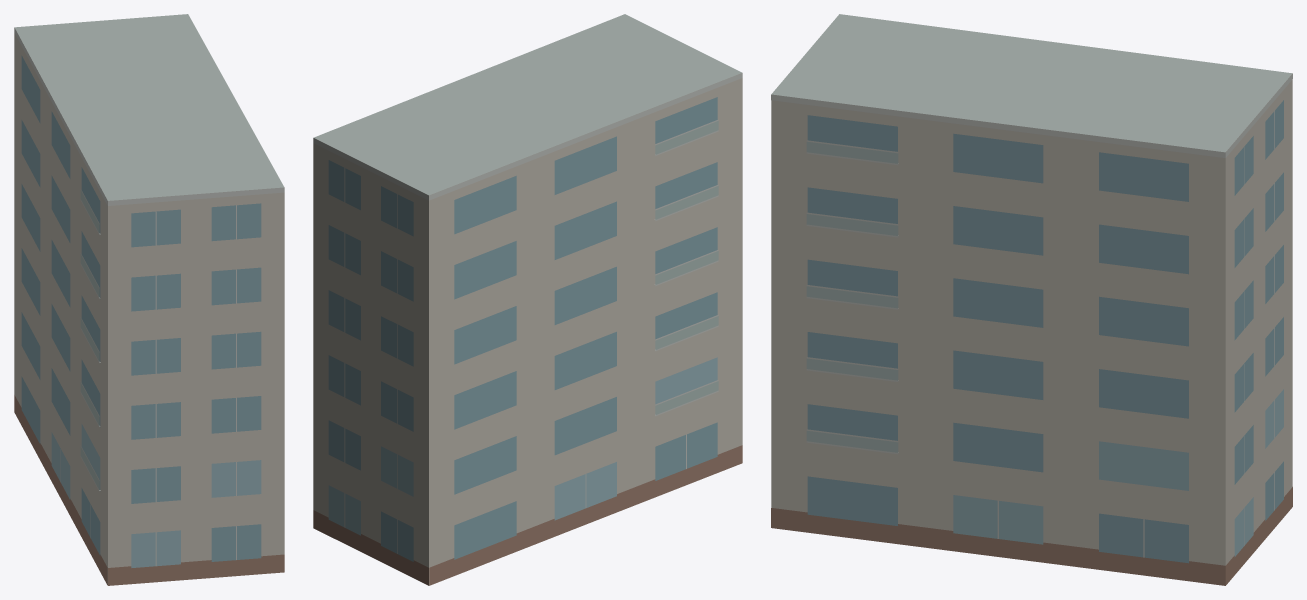
Rendered from survey-upis-32869133.glb.
3 renders of one model, left to right at view 1: azimuth 30°, elevation 25°; view 2: azimuth 150°, elevation 25°; view 3: azimuth 270°, elevation 25°, orthographic. The views are drawn at different scales.
Parts seen in each view (by area): view 1: survey-upis-32869133.tmp; view 2: survey-upis-32869133.tmp; view 3: survey-upis-32869133.tmp.
Part boxes in pixels (box(x1,y1,x2,y2)): survey-upis-32869133.tmp: box(14, 14, 284, 585); survey-upis-32869133.tmp: box(313, 14, 742, 585); survey-upis-32869133.tmp: box(771, 14, 1292, 585).
Size of the model in its own units: 12.53 by 18.3 by 19.97.
